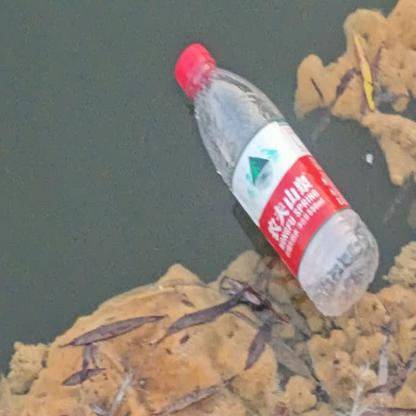plastic bottle: (173, 42, 378, 318)
